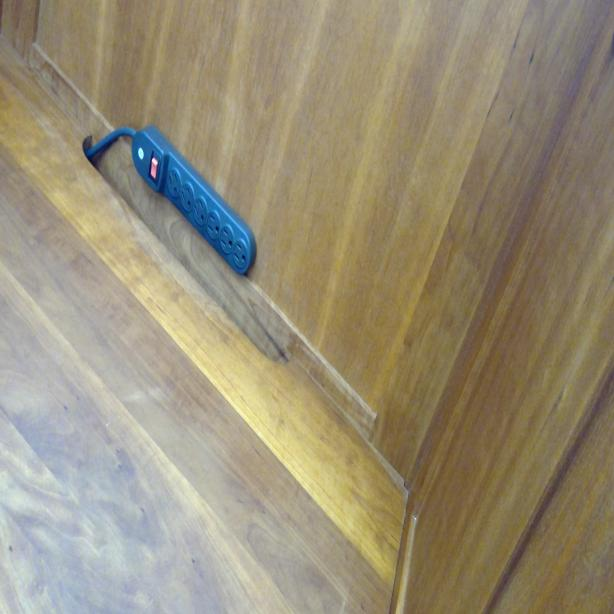typeb: (166, 168, 180, 197), (233, 238, 247, 266), (193, 196, 206, 226), (207, 210, 220, 238), (221, 224, 233, 254), (182, 185, 194, 214)
